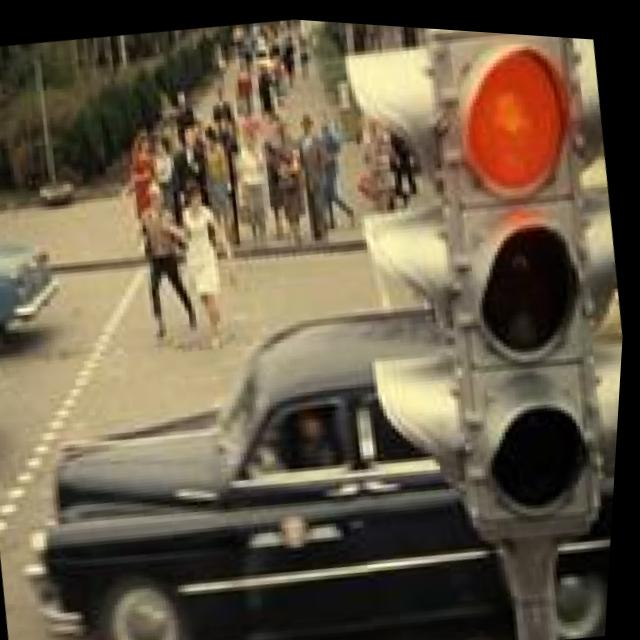red_light: (421, 28, 615, 230)
